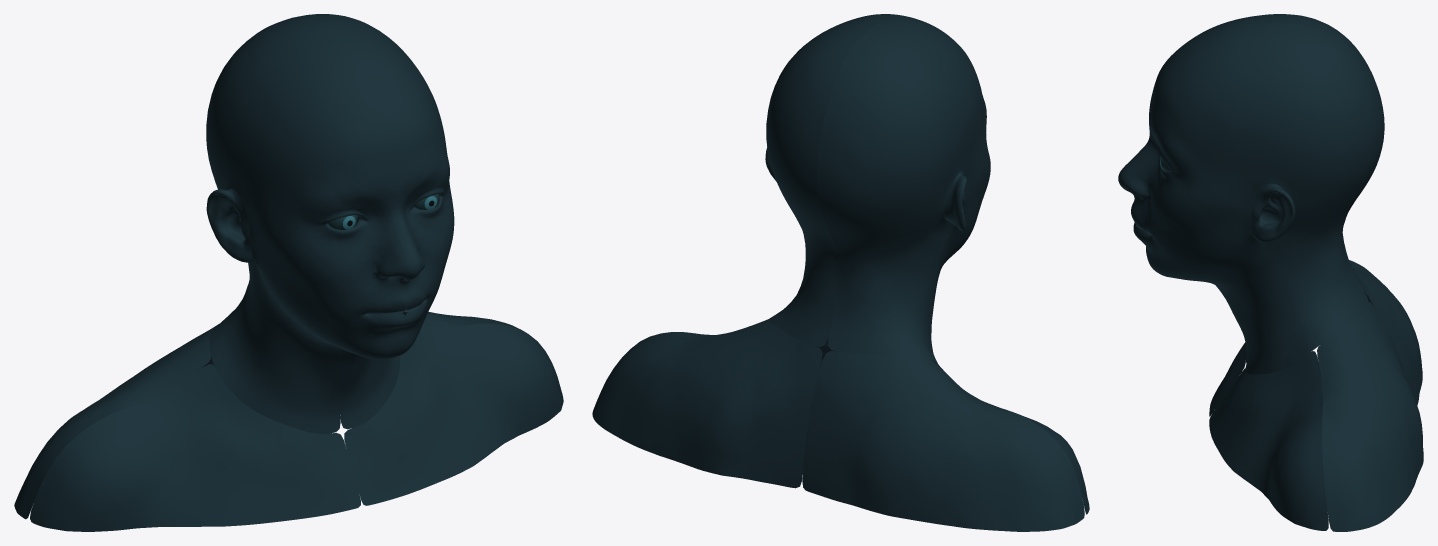
Rendered from travis-face-bust.glb.
The picture shows the model from 3 angles, left to right: view 1: azimuth 30°, elevation 25°; view 2: azimuth 150°, elevation 25°; view 3: azimuth 270°, elevation 25°; orthographic projection. The views are drawn at different scales.
Visible parts, largest first — view 1: TravisFace_Bust; view 2: TravisFace_Bust; view 3: TravisFace_Bust.
Part boxes in pixels (x1,y1,x2,y2): TravisFace_Bust: [14, 14, 563, 531]; TravisFace_Bust: [592, 14, 1089, 531]; TravisFace_Bust: [1118, 14, 1423, 531].
Bounding box in the file's own units: 1.99 × 1.62 × 1.13.
